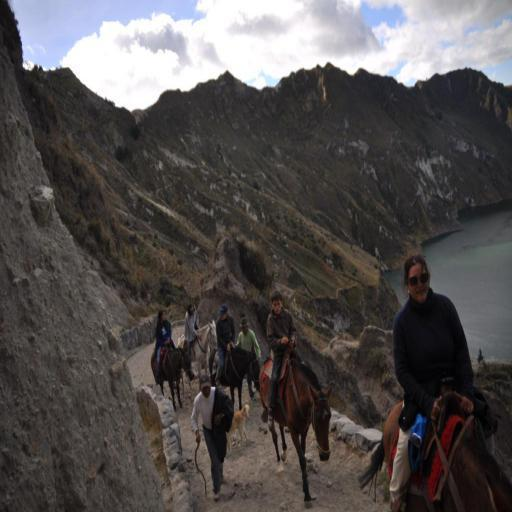horse: (356, 400, 512, 512), (259, 348, 334, 512), (206, 342, 262, 410), (150, 342, 196, 414), (176, 320, 218, 390)
